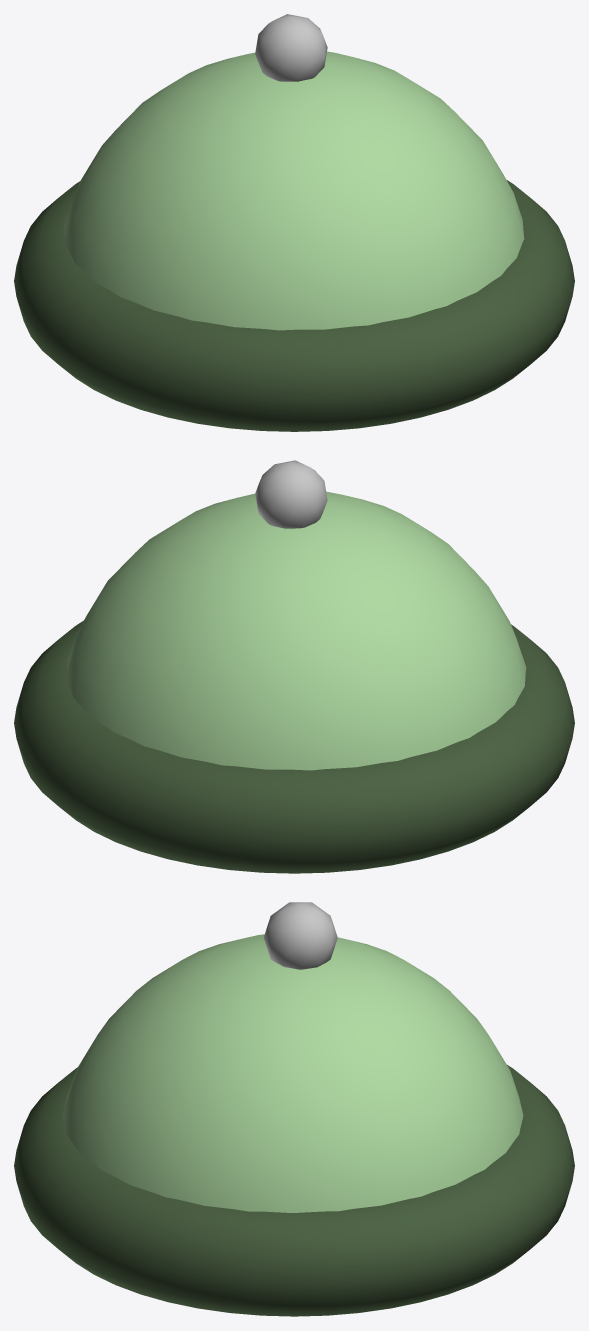
File: beanie.fbx
3 renders of one model, top to bottom at view 1: azimuth 30°, elevation 25°; view 2: azimuth 150°, elevation 25°; view 3: azimuth 270°, elevation 25°, orthographic.
Visible parts, largest first — view 1: Torus; view 2: Torus; view 3: Torus.
Part boxes in pixels (x1,y1,x2,y2): Torus: (14, 14, 574, 431); Torus: (14, 460, 574, 873); Torus: (14, 902, 574, 1316).
Size of the model in its own units: 77.16 by 47.45 by 77.16.
